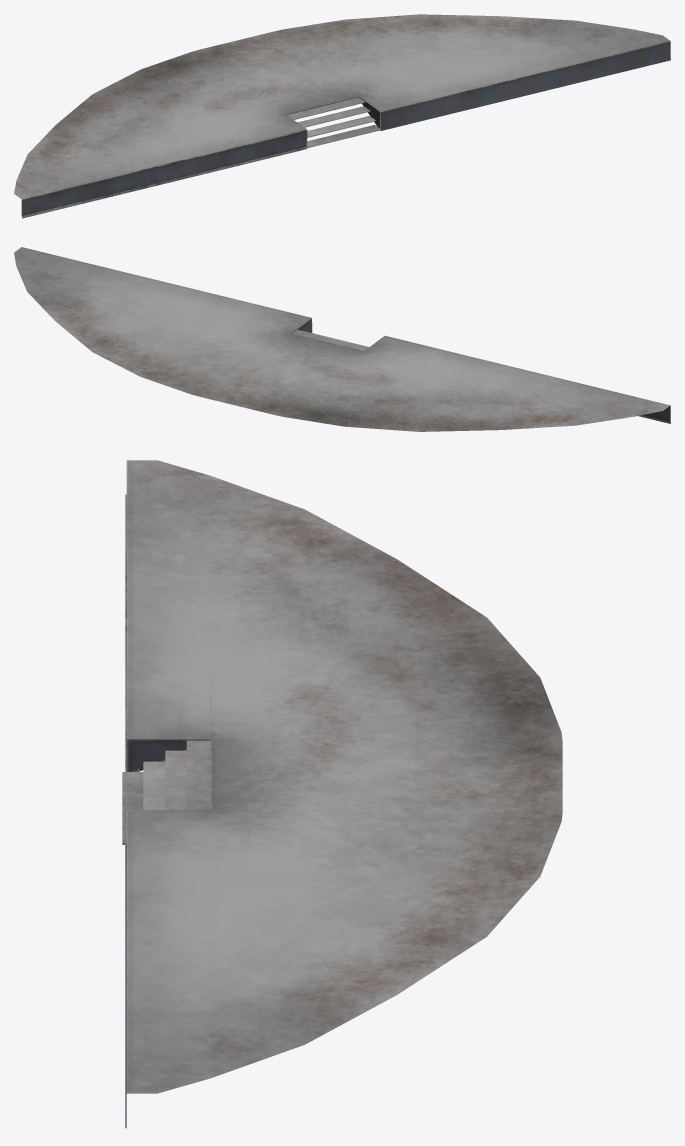
The model's file is ShipNewBridgeFloor.fbx.
3 renders of one model, top to bottom at view 1: azimuth 30°, elevation 25°; view 2: azimuth 150°, elevation 25°; view 3: azimuth 270°, elevation 25°, orthographic. The views are drawn at different scales.
Visible parts, largest first — view 1: Plane.006; view 2: Plane.006; view 3: Plane.006.
Part boxes in pixels (x1,y1,x2,y2): Plane.006: (14, 14, 670, 218); Plane.006: (14, 247, 670, 431); Plane.006: (122, 460, 562, 1128).
Bounding box in the file's own units: 1814 × 50.88 × 533.
